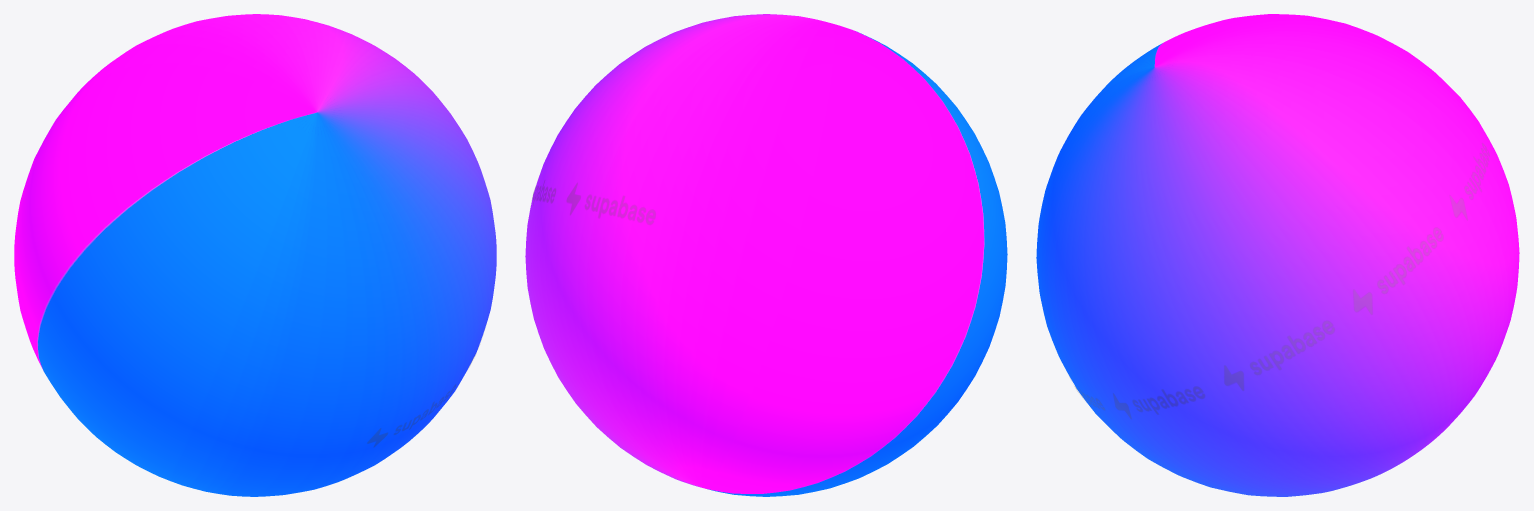
File: Ball.glb
3 renders of one model, left to right at view 1: azimuth 30°, elevation 25°; view 2: azimuth 150°, elevation 25°; view 3: azimuth 270°, elevation 25°, orthographic.
Parts seen in each view (by area): view 1: Sphere_primitive0; view 2: Sphere_primitive0, Sphere_primitive1; view 3: Sphere_primitive0, Sphere_primitive1.
Part boxes in pixels (x1=…): Sphere_primitive0: x1=14, y1=14, x2=496, y2=496; Sphere_primitive0: x1=525, y1=14, x2=1007, y2=496; Sphere_primitive1: x1=532, y1=181, x2=655, y2=224; Sphere_primitive0: x1=1036, y1=14, x2=1519, y2=496; Sphere_primitive1: x1=1074, y1=143, x2=1489, y2=418.
Bounding box in the file's own units: 2 × 2 × 2.
Materials: 2 (2 with a texture image).
